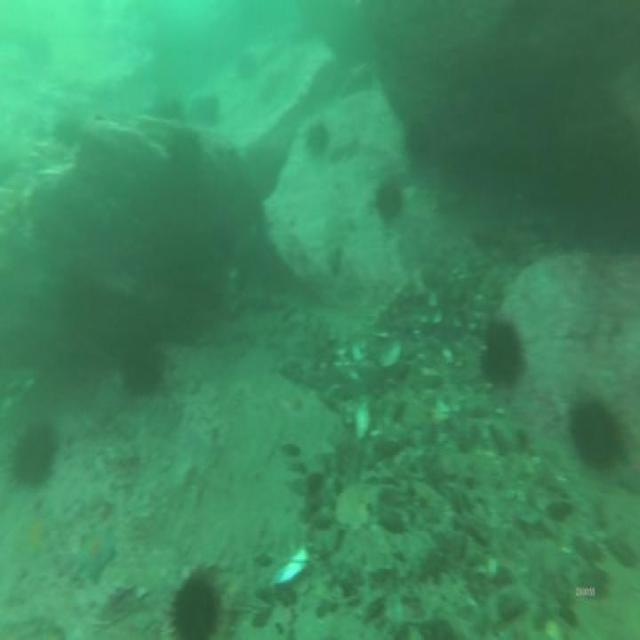echinus: (572, 403, 620, 472), (172, 577, 220, 640), (13, 424, 57, 488), (482, 324, 524, 389), (121, 349, 161, 397), (377, 184, 399, 216), (305, 125, 328, 150)
starfish: (78, 529, 114, 580), (23, 514, 48, 552)
